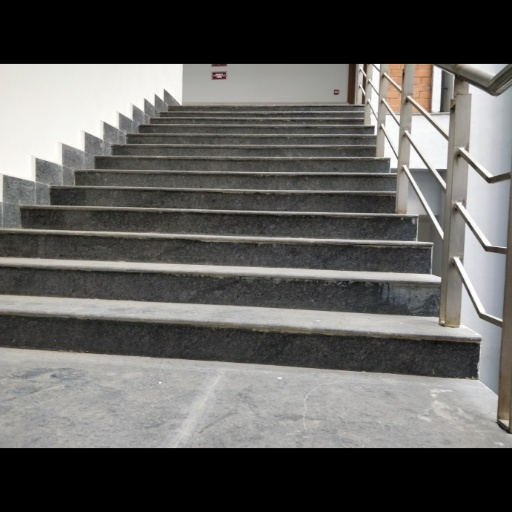Stairs: (0, 107, 480, 377)
